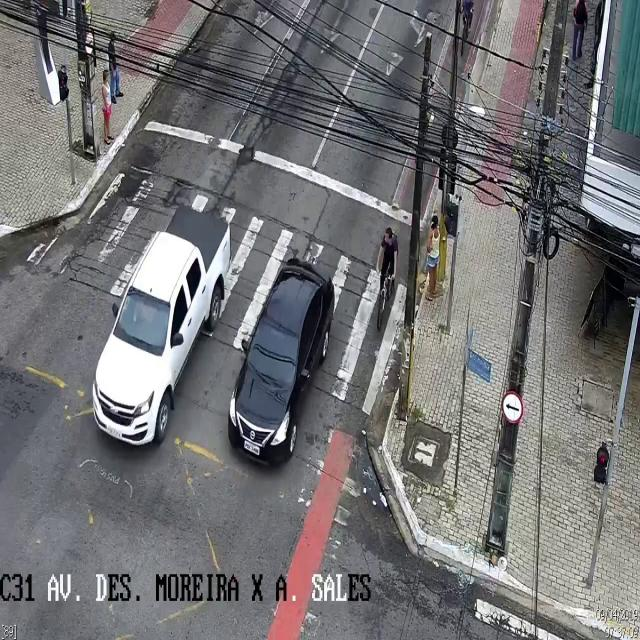Car: (92, 206, 230, 447), (228, 260, 334, 468)
